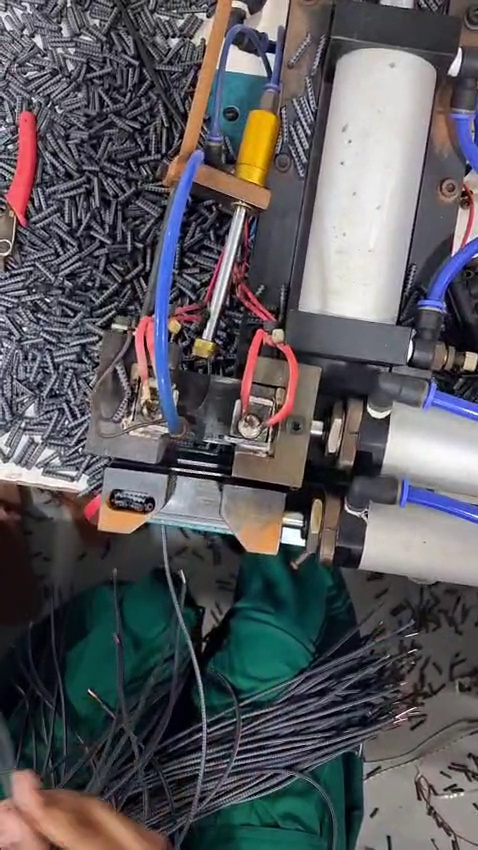machine: (78, 274, 346, 530)
